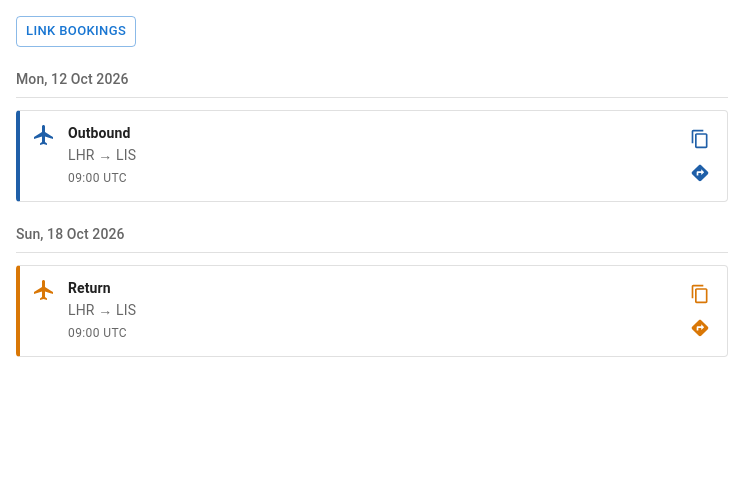
it: TripTimeline › expands a tile inline (no modal) when tapped, and allows several open at once
Check: the button "Edit" is not shown
Click the element with test id "part-card-1" at (372, 156), box [16,110,728,202]
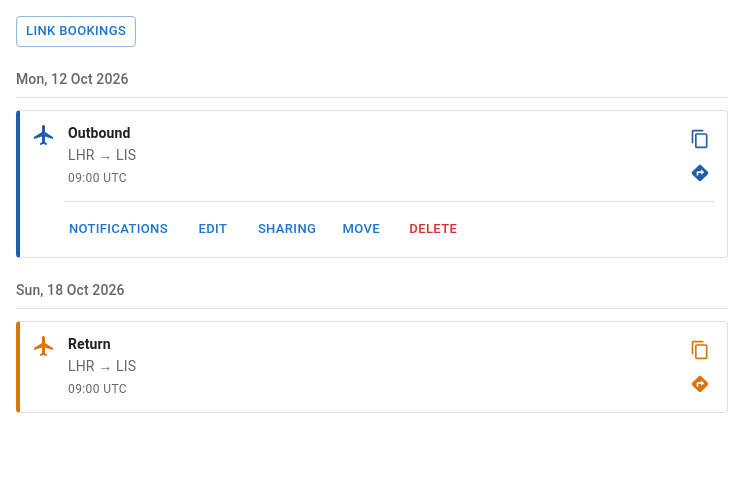
Click the element with test id "part-card-2" at (372, 367), box [16,321,728,413]
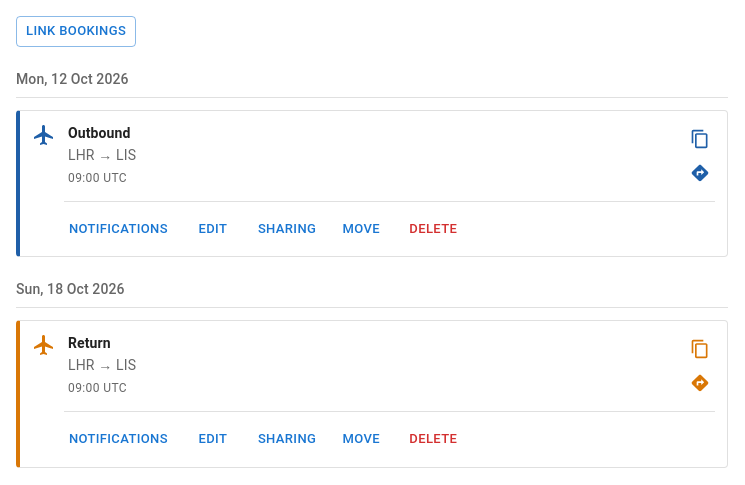
Check: the number of buttons "Edit" is 2, box [181,214,245,244]; [181,424,245,455]
